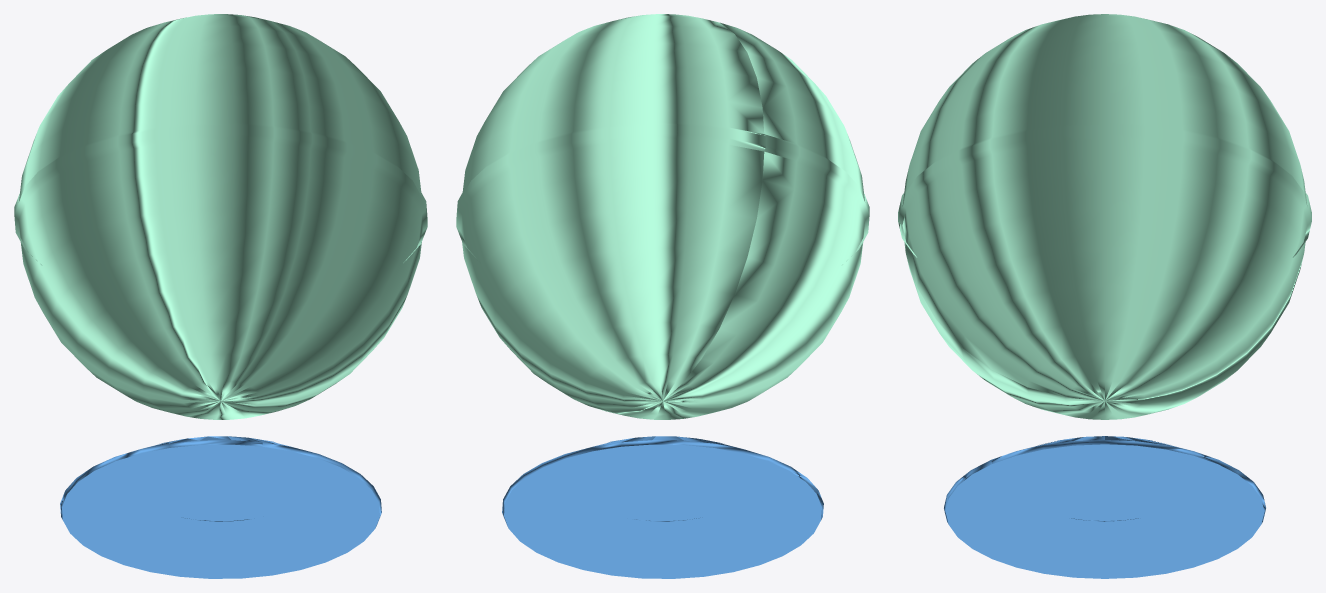
The model's file is globe_whisky_1_a.glb.
3 views of the same model, side by side, from view 1: azimuth 30°, elevation 25°; view 2: azimuth 150°, elevation 25°; view 3: azimuth 270°, elevation 25° (orthographic).
Bounding box in the file's own units: 1.02 × 1.3 × 1.02.
